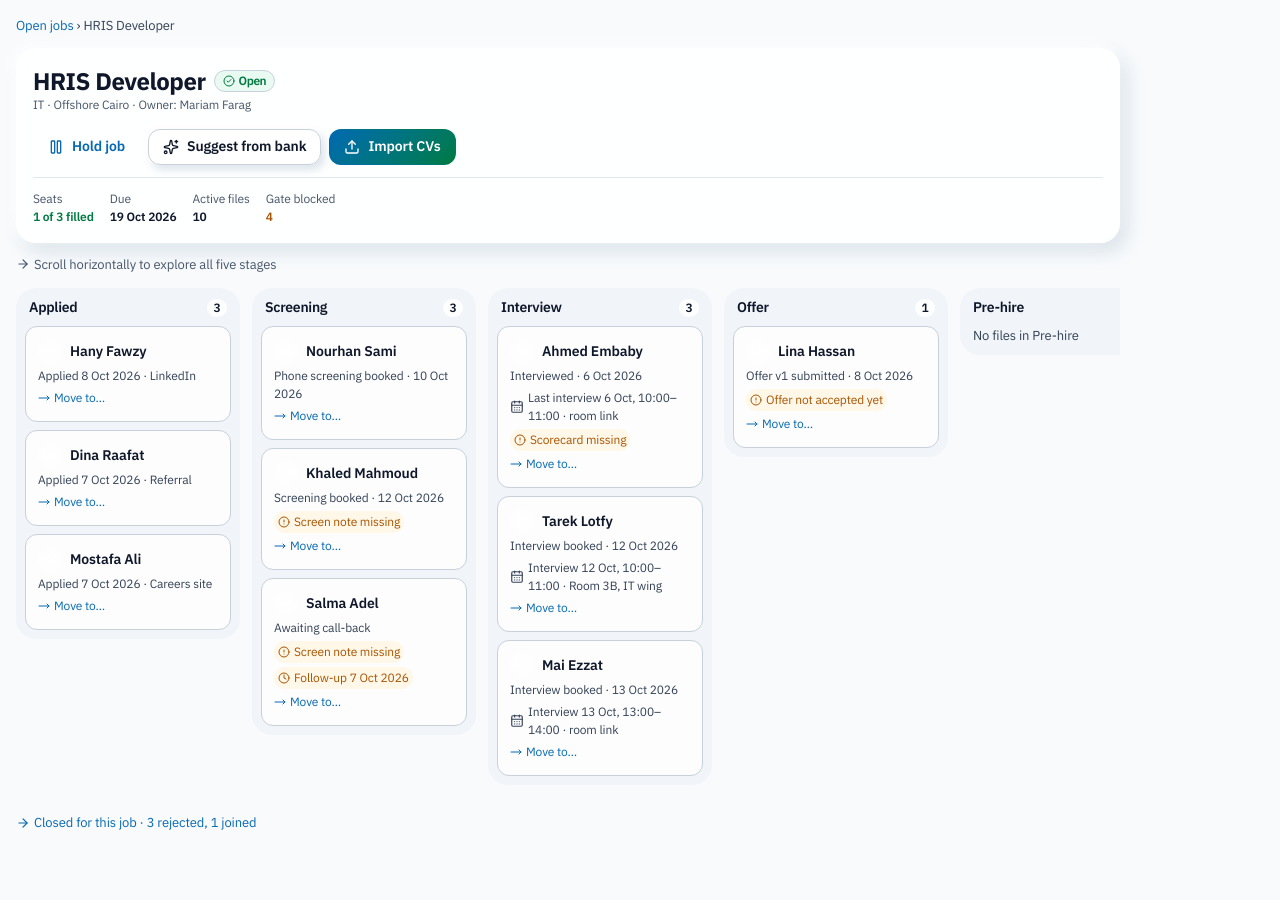
Test: E09 Job pipeline › keyboard "Move to…": allowed next stage moves (PATCH with expectedStage/version)
The image size is (1280, 900).
Step 1. Click the button "Move to…" below "Applied 8 Oct 2026 · LinkedIn" → coordinates (71, 398), box top-left (38, 389), bottom-right (105, 407)
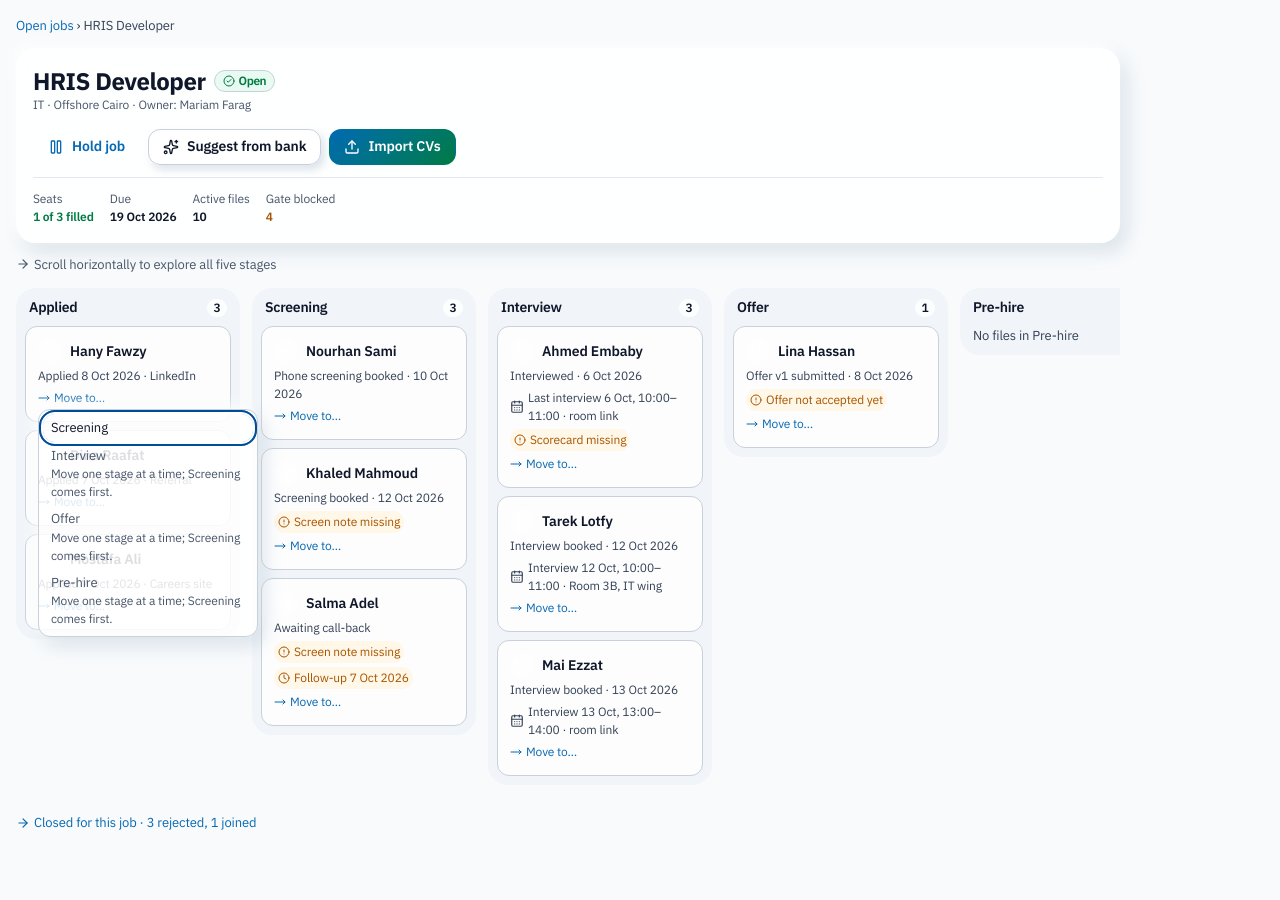
expect the menu item "Interview Move one stage at a time; Screening comes first." is shown: met, box top-left (43, 442), bottom-right (253, 505)
Step 2. Press Arrowdown Arrowup Enter
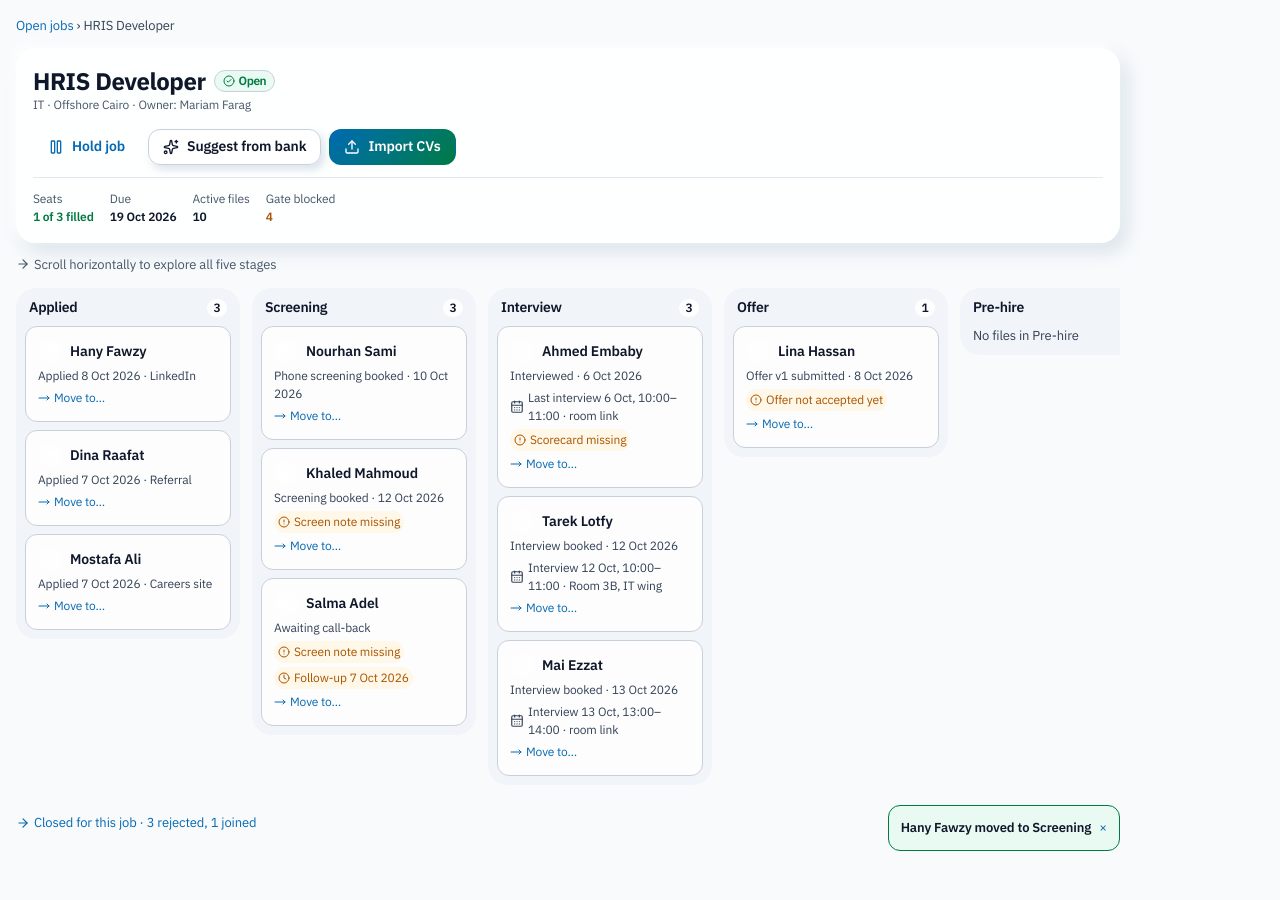
expect the text "Hany Fawzy moved to Screening" is shown: met, box top-left (901, 818), bottom-right (1091, 838)
